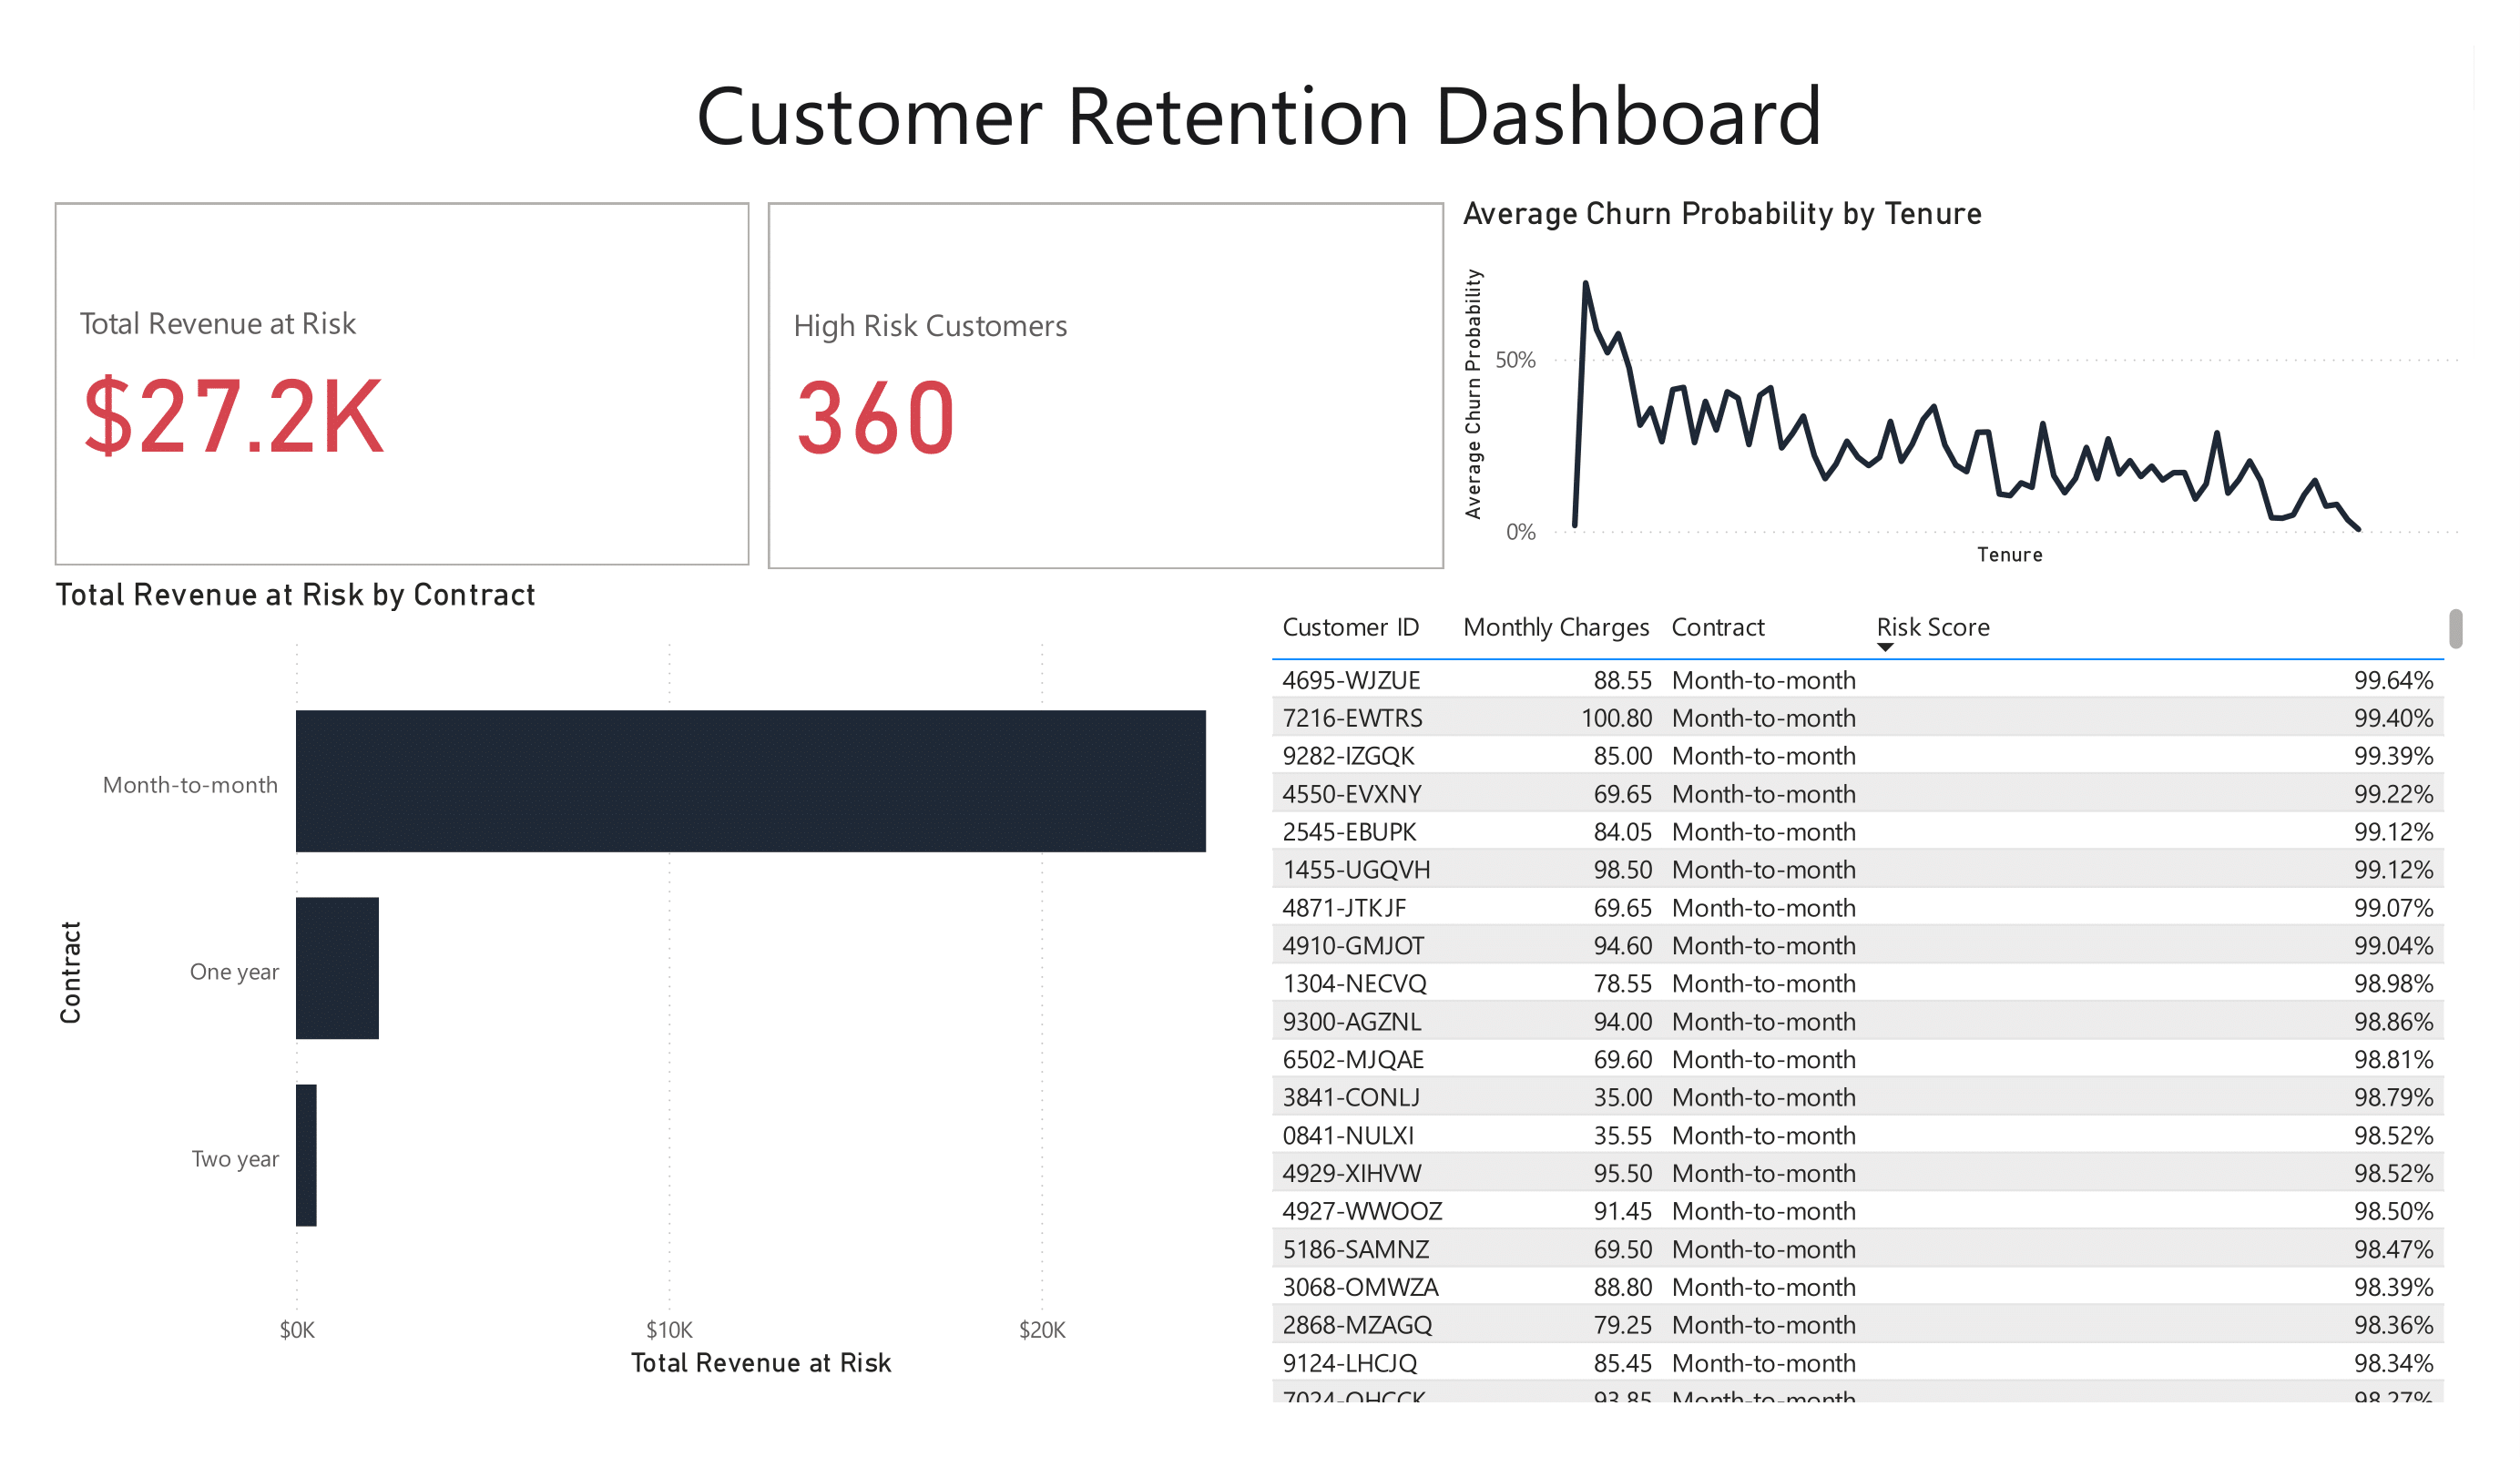

Layout of this report page (visuals, bound fields, positions):
{"tool":"powerbi","page":{"name":"Page 1","canvas":[1280,720],"ordinal":0},"visuals":[{"type":"cardVisual","fields":{"Data":["churn_data.Total Revenue at Risk"]},"box":[0,77.8,375.8,201.6],"z":0},{"type":"cardVisual","fields":{"Data":["churn_data.High Risk Customers"]},"box":[375.8,77.8,365.8,203],"z":1},{"type":"barChart","fields":{"Category":["churn_data.Contract"],"Y":["churn_data.Total Revenue at Risk"]},"box":[0,279.4,640.8,427.7],"z":2},{"type":"tableEx","fields":{"Values":["churn_data.customerID","Sum(churn_data.MonthlyCharges)","churn_data.Contract","Sum(churn_data.Churn_Probability)"]},"box":[640.8,290.9,639.4,429.1],"z":3},{"type":"lineChart","fields":{"Category":["churn_data.tenure"],"Y":["churn_data.Avg Churn Probability"]},"box":[741.6,77.8,538.6,201.6],"z":4},{"type":"textbox","box":[0,0,1280.2,77.8],"z":5}]}

Visuals, with their boxes in screenshot pixels (x1, y1, x2, y2):
cardVisual - churn_data.Total Revenue at Risk: <bbox>46, 193, 759, 576</bbox>
cardVisual - churn_data.High Risk Customers: <bbox>759, 193, 1453, 578</bbox>
barChart - churn_data.Contract x churn_data.Total Revenue at Risk: <bbox>46, 576, 1261, 1387</bbox>
tableEx - churn_data.customerID x Sum(churn_data.MonthlyCharges): <bbox>1261, 597, 2474, 1411</bbox>
lineChart - churn_data.tenure x churn_data.Avg Churn Probability: <bbox>1453, 193, 2474, 576</bbox>
textbox: <bbox>46, 46, 2474, 193</bbox>
